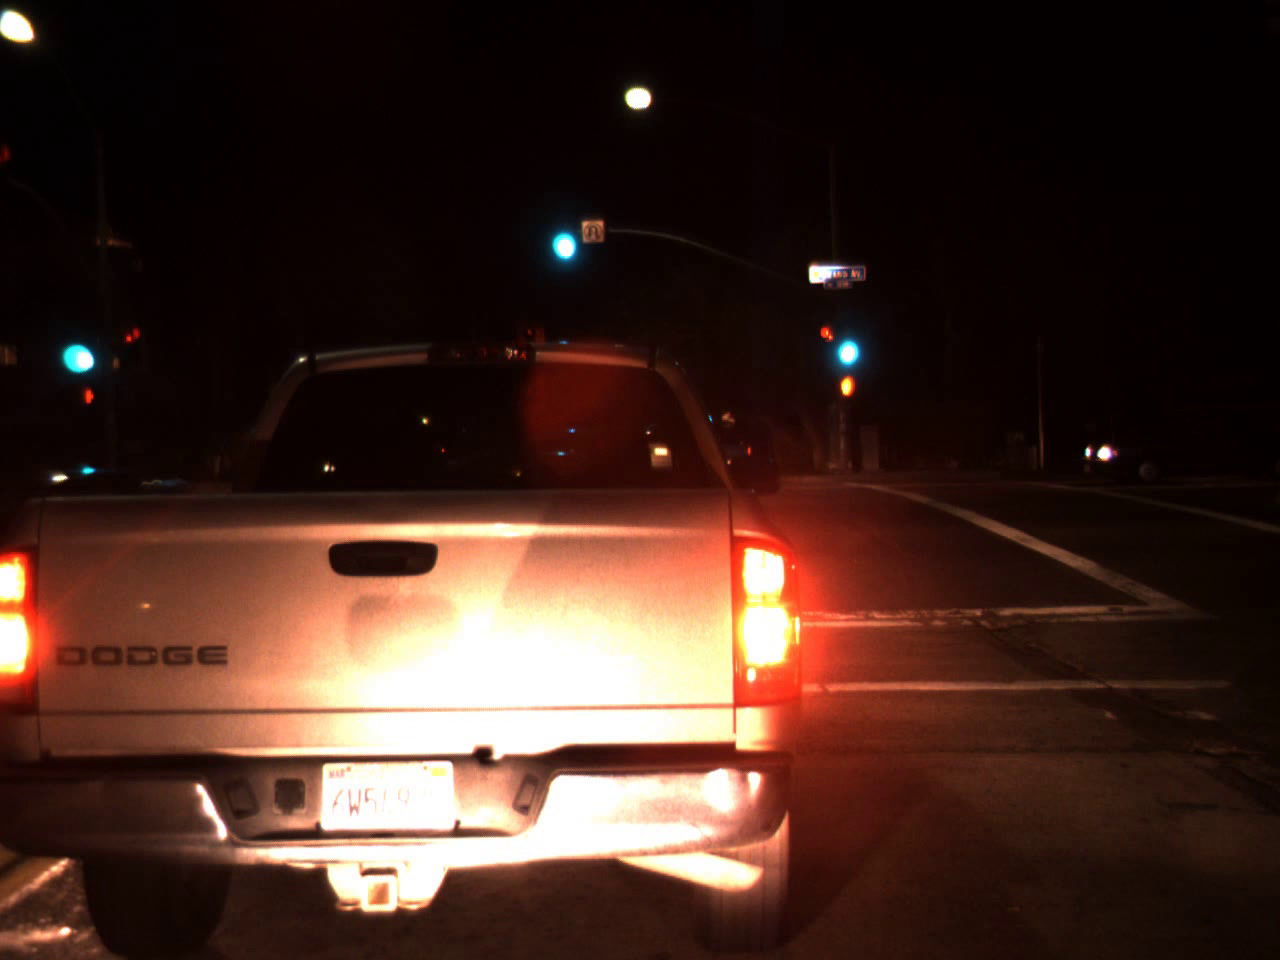go: (51, 307, 96, 385), (542, 196, 581, 271), (829, 309, 863, 375)
